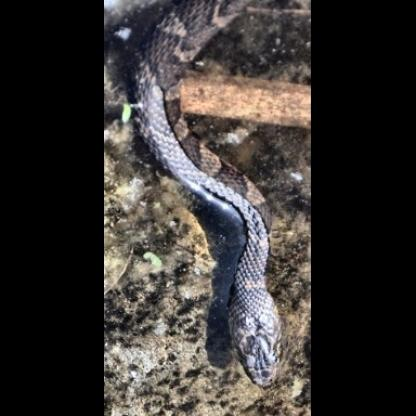Snake: (121, 11, 304, 410)
